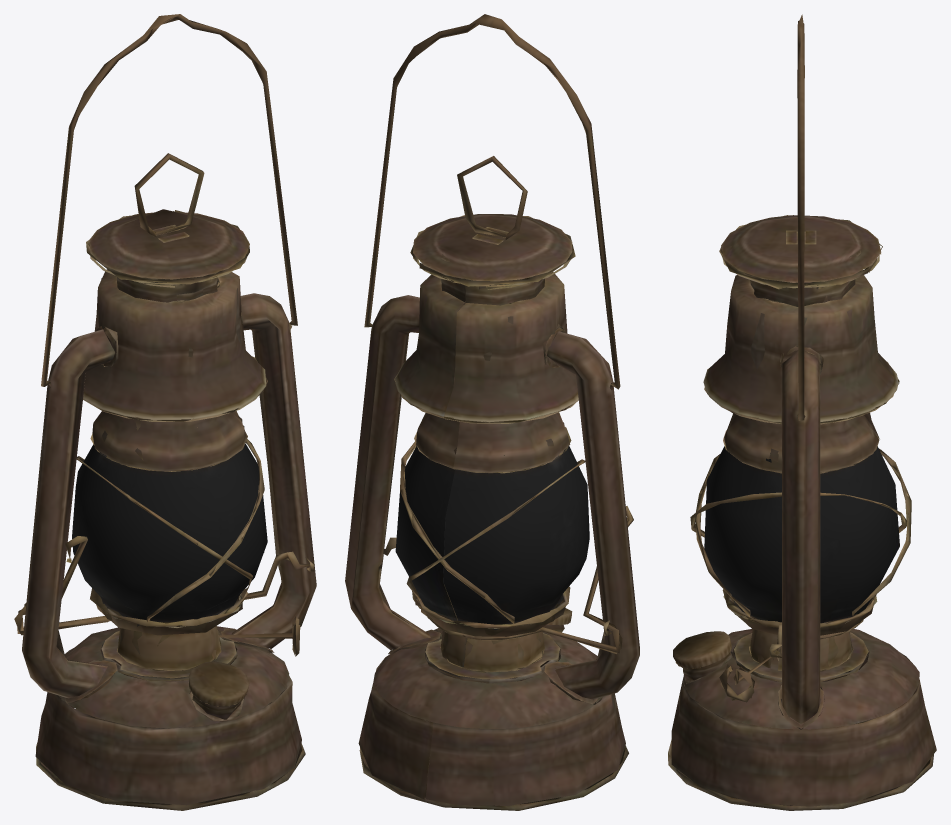
File: Lantern_01.glb
The picture shows the model from 3 angles, left to right: view 1: azimuth 30°, elevation 25°; view 2: azimuth 150°, elevation 25°; view 3: azimuth 270°, elevation 25°; orthographic projection.
Visible parts, largest first — view 1: Lantern_01, Lantern_01_glass; view 2: Lantern_01, Lantern_01_glass; view 3: Lantern_01, Lantern_01_glass.
Boxes of the visible parts, x1,y1,x2,y2 form: Lantern_01: (14, 14, 316, 810); Lantern_01_glass: (72, 425, 267, 626); Lantern_01: (345, 14, 639, 810); Lantern_01_glass: (395, 446, 589, 630); Lantern_01: (668, 14, 936, 810); Lantern_01_glass: (704, 446, 899, 623).
Size of the model in its own units: 0.1222 by 0.294 by 0.0973.
2 materials, 2 textured.
